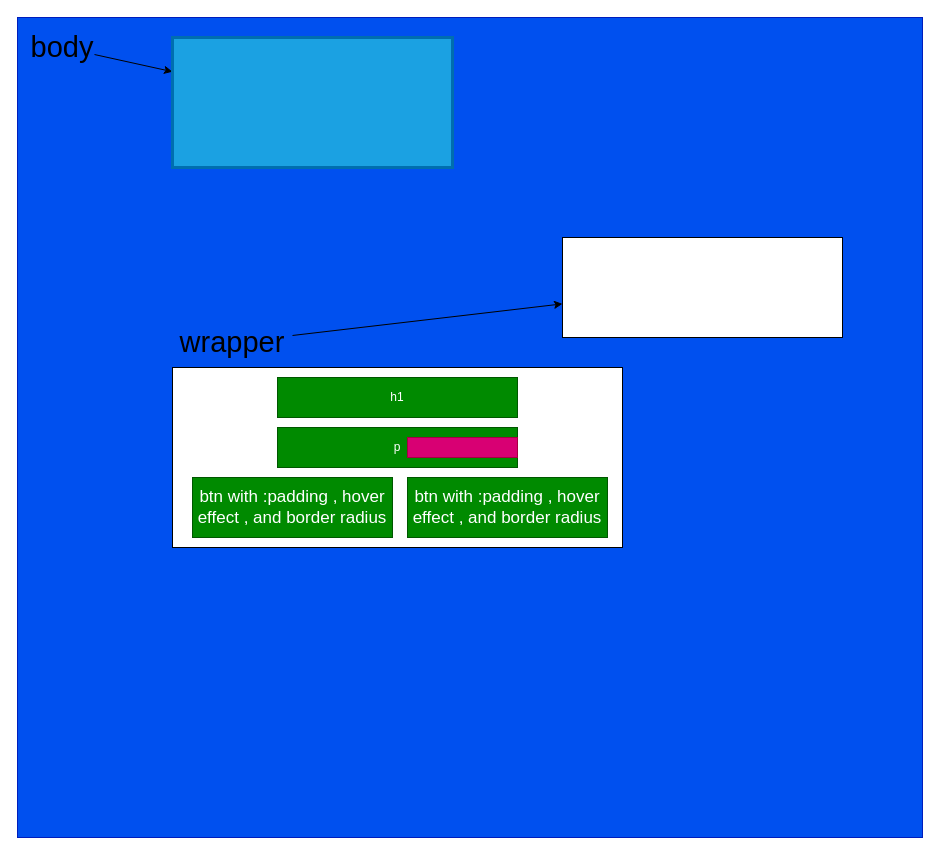
Image size: 940x855. Some labels were removed from this diagram. Each missing label, with the box of its shape:
1.center 2.width 500px 3.padding 3px: (562, 236, 842, 338)
1.full height 2.center through flex: (170, 36, 454, 168)
span: (406, 436, 518, 458)
